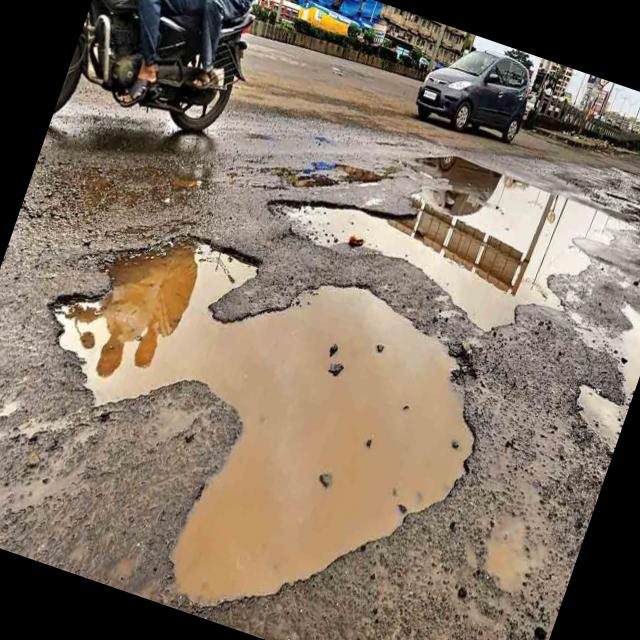Potholes: (0, 178, 525, 640), (254, 92, 640, 372), (541, 277, 640, 489), (453, 486, 563, 618)
